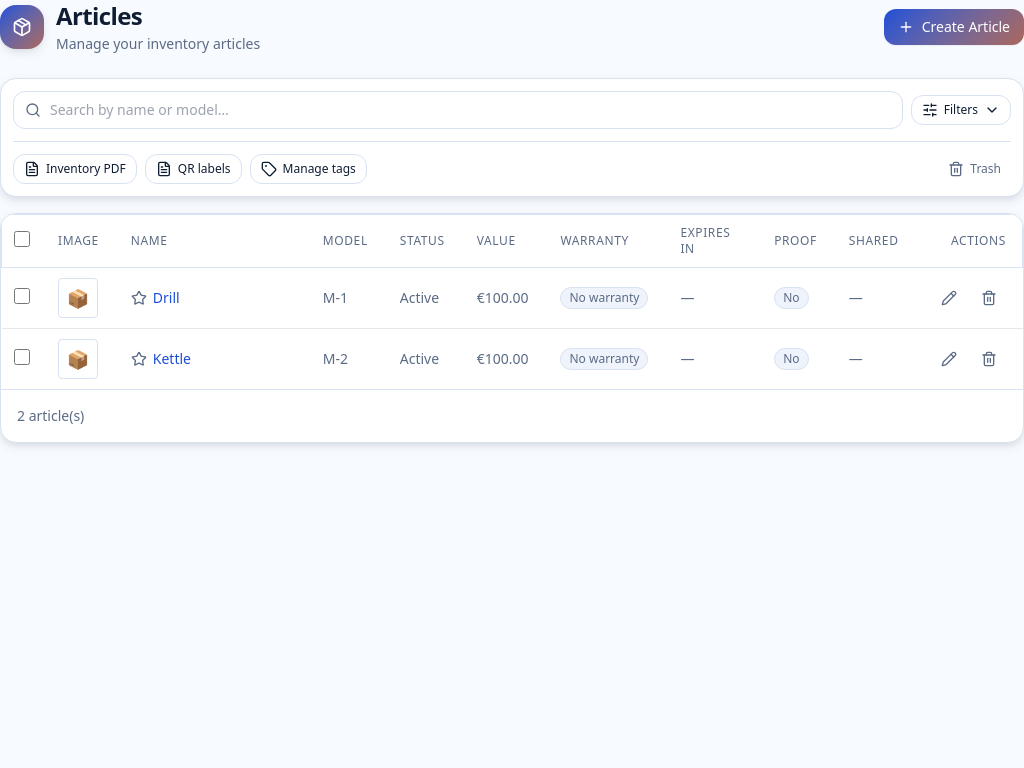
Test: <ArticlesList /> › opens the sheet from the header button and closes it with Cancel
Click the button "Create Article" at (954, 27), box [884, 9, 1023, 45]
(page scrolled)
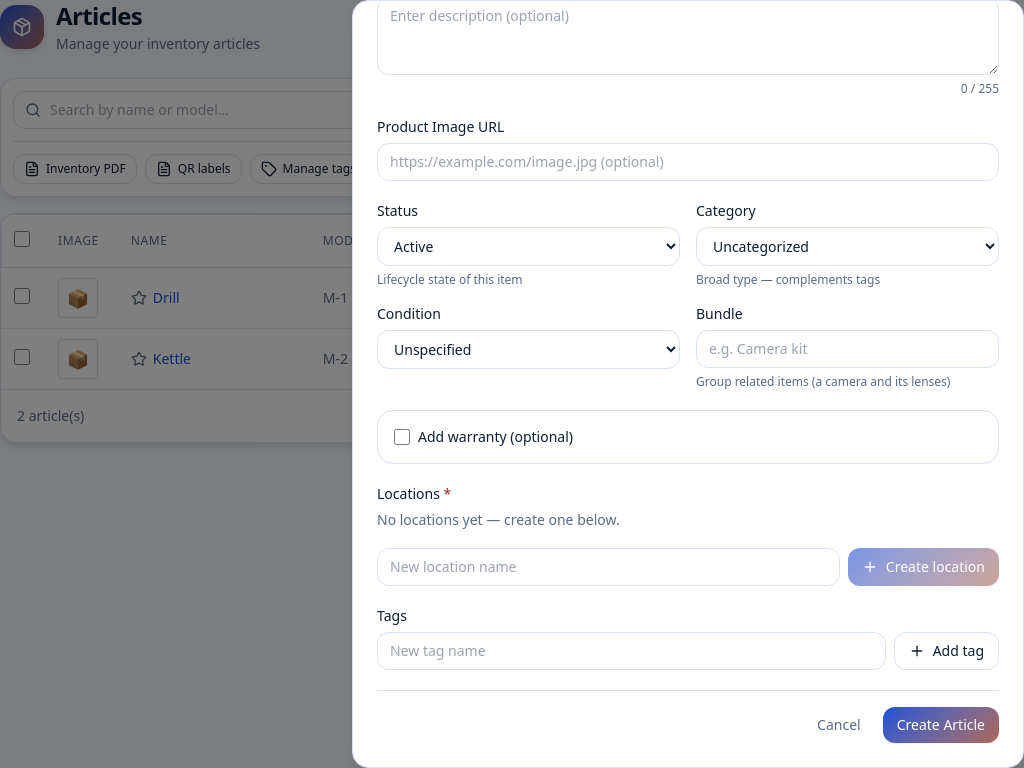
Click the button "Cancel" at (839, 725), box [803, 707, 875, 743]
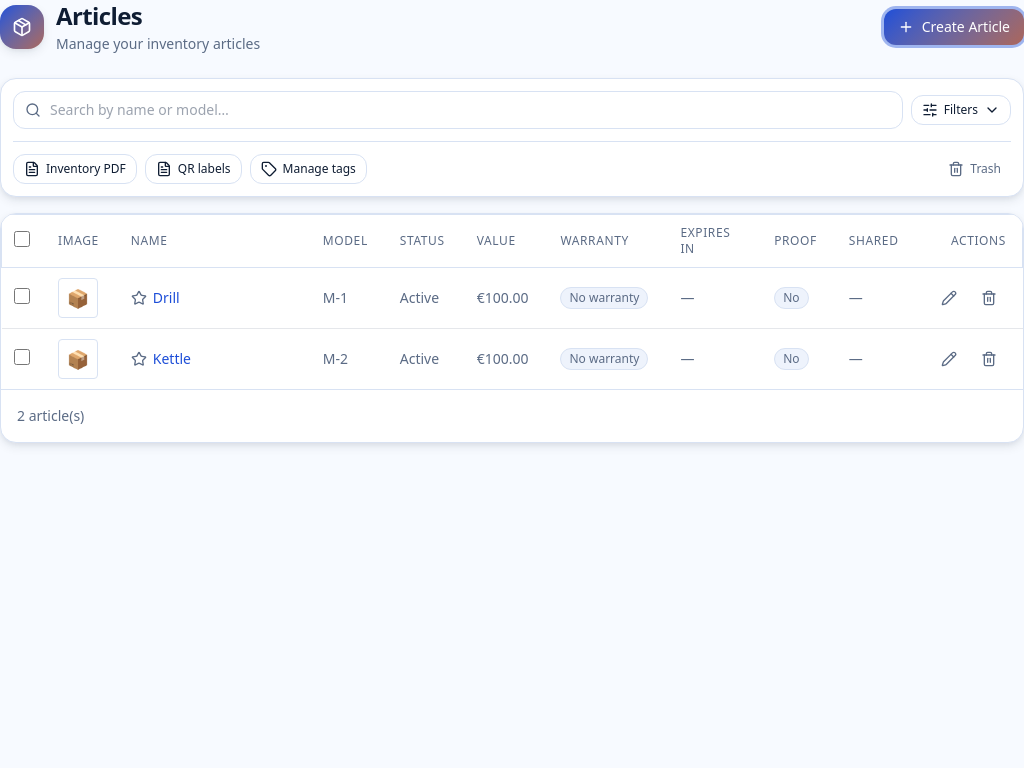
Now the dialog is gone
